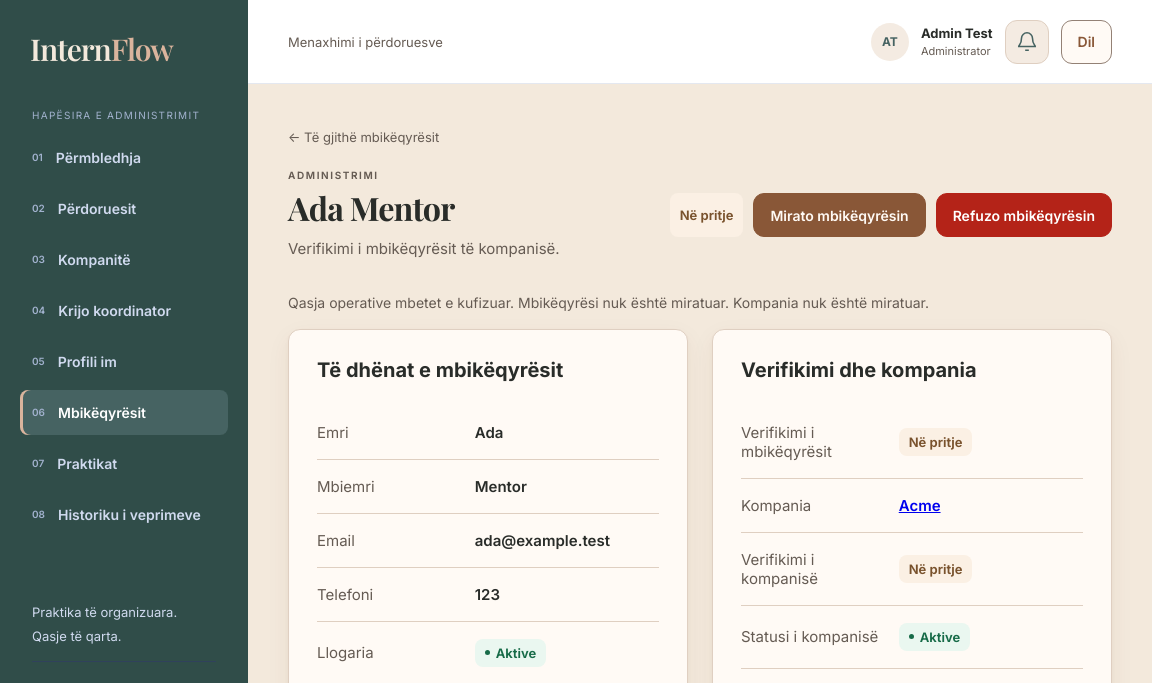
Test: Admin supervisors › confirms approval without granting access when the company is still pending
Click the button "Mirato mbikëqyrësin": (840, 215) [753, 193, 926, 237]
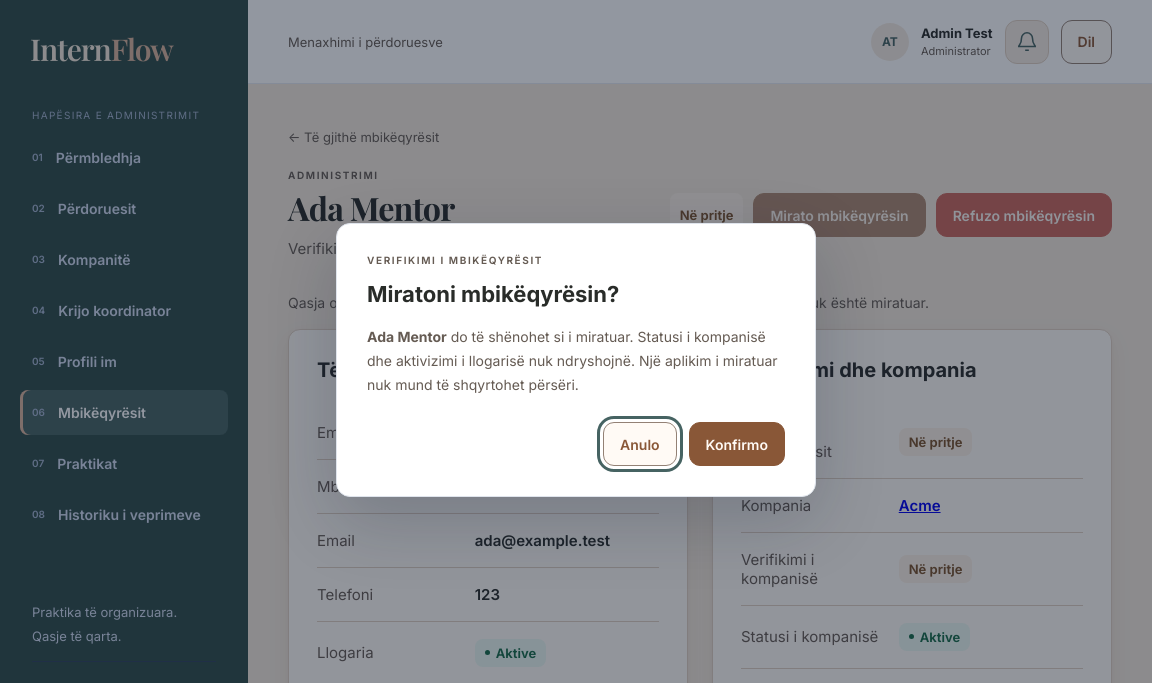
Check: the text "Ada Mentor" is shown, box [367, 328, 447, 345]
Click the button "Konfirmo": (737, 444) [689, 422, 785, 466]
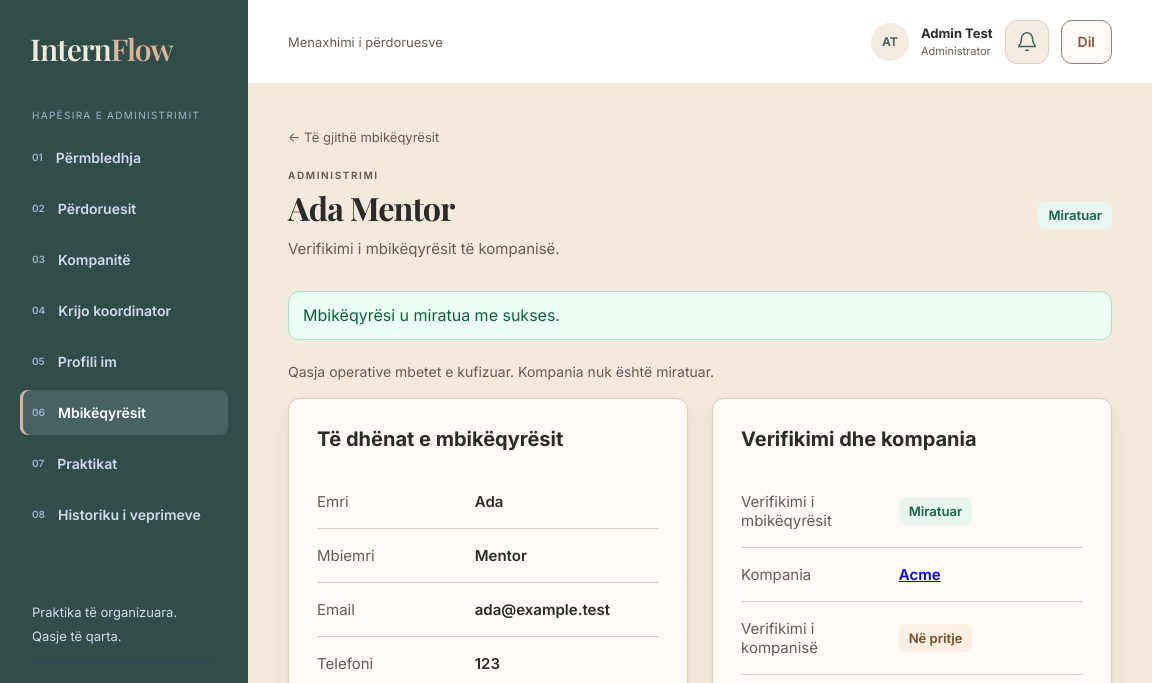
Check: the text "Kompania nuk është miratuar." is shown, box [288, 363, 714, 380]
Check: the text "Mbikëqyrësi u miratua me sukses." is shown, box [288, 291, 1112, 340]
Check: the button "Mirato mbikëqyrësin" is gone
